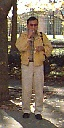person: (17, 17, 53, 116)
